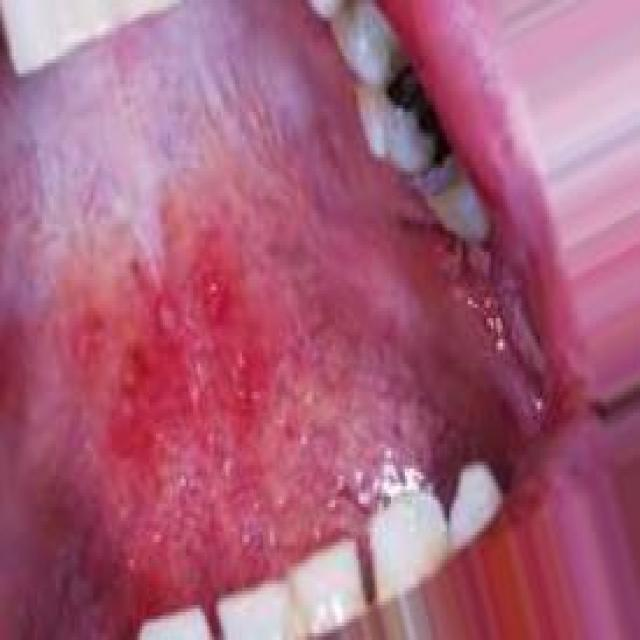caries: (378, 56, 449, 182)
